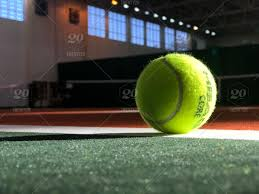tennis_ball: (134, 51, 218, 135)
